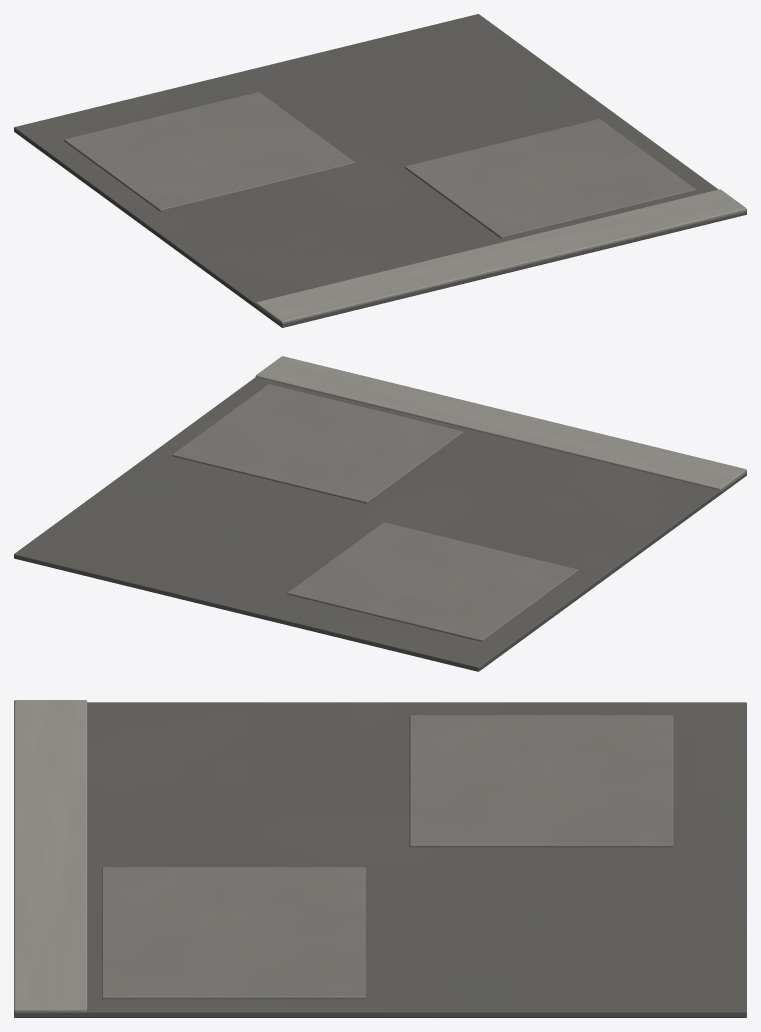
File: road_sidewalk.glb
The picture shows the model from 3 angles, top to bottom: view 1: azimuth 30°, elevation 25°; view 2: azimuth 150°, elevation 25°; view 3: azimuth 270°, elevation 25°; orthographic projection. The views are drawn at different scales.
Parts seen in each view (by area): view 1: road_sidewalk_field, road_sidewalk_panel_b, road_sidewalk_panel_a, road_sidewalk_kerb; view 2: road_sidewalk_field, road_sidewalk_panel_a, road_sidewalk_panel_b, road_sidewalk_kerb; view 3: road_sidewalk_field, road_sidewalk_panel_a, road_sidewalk_panel_b, road_sidewalk_kerb.
Boxes of the visible parts, box(x1,y1,x2,y2) form: road_sidewalk_field: box(14, 14, 746, 327); road_sidewalk_panel_b: box(404, 119, 696, 238); road_sidewalk_panel_a: box(64, 92, 355, 211); road_sidewalk_kerb: box(255, 189, 746, 323); road_sidewalk_field: box(14, 377, 746, 671); road_sidewalk_panel_a: box(287, 522, 578, 641); road_sidewalk_panel_b: box(172, 384, 463, 503); road_sidewalk_kerb: box(255, 356, 746, 491); road_sidewalk_field: box(14, 702, 746, 1017); road_sidewalk_panel_a: box(409, 715, 673, 847); road_sidewalk_panel_b: box(102, 867, 365, 999); road_sidewalk_kerb: box(14, 700, 87, 1013).
Size of the model in its own units: 4 by 0.055 by 4.
3 materials, 3 textured.
